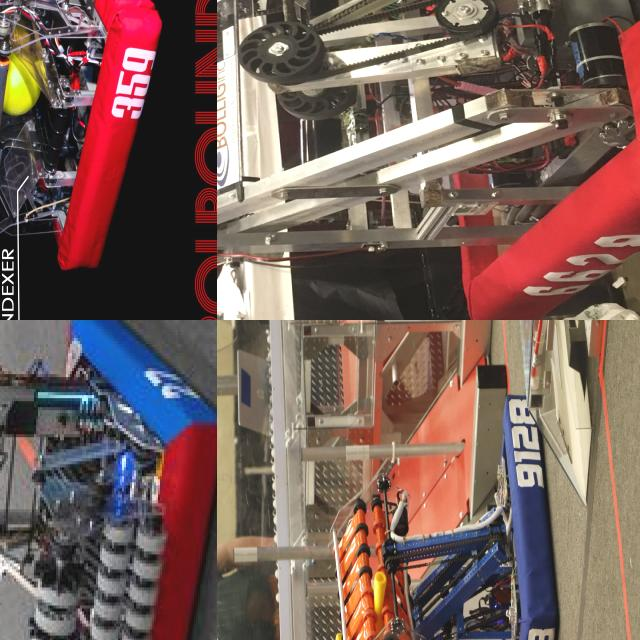FRC-Robots: (217, 0, 640, 320), (302, 335, 573, 640), (0, 320, 212, 640), (0, 0, 190, 296)
